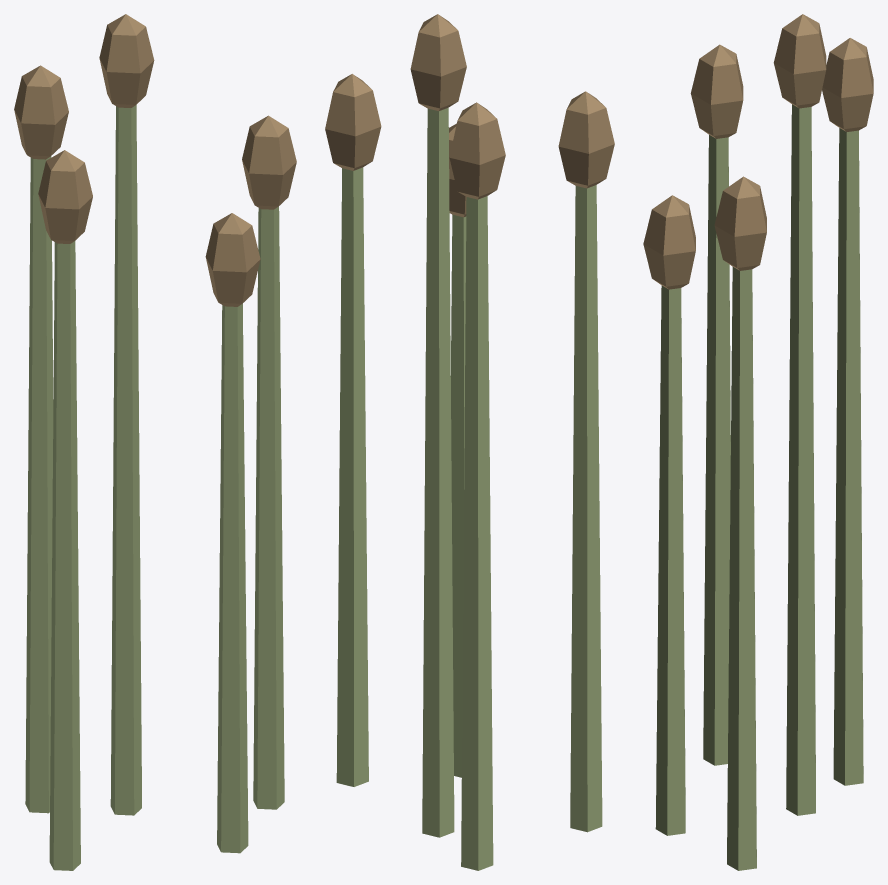
The model's file is reed.glb.
3 renders of one model, left to right at view 1: azimuth 30°, elevation 25°; view 2: azimuth 150°, elevation 25°; view 3: azimuth 270°, elevation 25°, orthographic. The views are drawn at different scales.
Parts seen in each view (by area): view 1: Stem_1, StemX_2, Stem_0, StemX_4, StemX_3, Head_0, HeadX_3, HeadX_4, HeadX_2, Head_1; view 2: Stem_1, StemX_4, StemX_2, Stem_0, StemX_3, HeadX_2, HeadX_4, Head_1, Head_0, HeadX_3; view 3: Stem_1, StemX_4, Stem_0, StemX_2, StemX_3, Head_1, HeadX_2, Head_0, HeadX_3, HeadX_4.
Part boxes in pixels (bbox=[...]): Stem_1: bbox=[110, 105, 141, 815]; StemX_2: bbox=[49, 241, 80, 870]; Stem_0: bbox=[253, 206, 284, 809]; StemX_4: bbox=[25, 156, 53, 813]; StemX_3: bbox=[217, 303, 248, 853]; Head_0: bbox=[242, 115, 296, 209]; HeadX_3: bbox=[205, 213, 260, 306]; HeadX_4: bbox=[14, 65, 68, 159]; HeadX_2: bbox=[38, 150, 92, 243]; Head_1: bbox=[99, 14, 154, 107]; Stem_1: bbox=[422, 107, 454, 837]; StemX_4: bbox=[461, 196, 493, 870]; StemX_2: bbox=[570, 185, 602, 832]; Stem_0: bbox=[336, 167, 368, 786]; StemX_3: bbox=[450, 214, 466, 777]; HeadX_2: bbox=[558, 91, 614, 188]; HeadX_4: bbox=[449, 102, 505, 199]; Head_1: bbox=[410, 14, 466, 110]; Head_0: bbox=[325, 74, 381, 170]; HeadX_3: bbox=[449, 123, 466, 217]; Stem_1: bbox=[786, 104, 815, 815]; StemX_4: bbox=[833, 128, 863, 785]; Stem_0: bbox=[727, 267, 756, 870]; StemX_2: bbox=[703, 135, 730, 765]; StemX_3: bbox=[655, 285, 685, 835]; Head_1: bbox=[773, 14, 826, 108]; HeadX_2: bbox=[690, 44, 743, 138]; Head_0: bbox=[714, 176, 766, 270]; HeadX_3: bbox=[643, 195, 695, 289]; HeadX_4: bbox=[822, 38, 873, 131].
Size of the model in its own units: 0.5132 by 1.48 by 0.3886.
